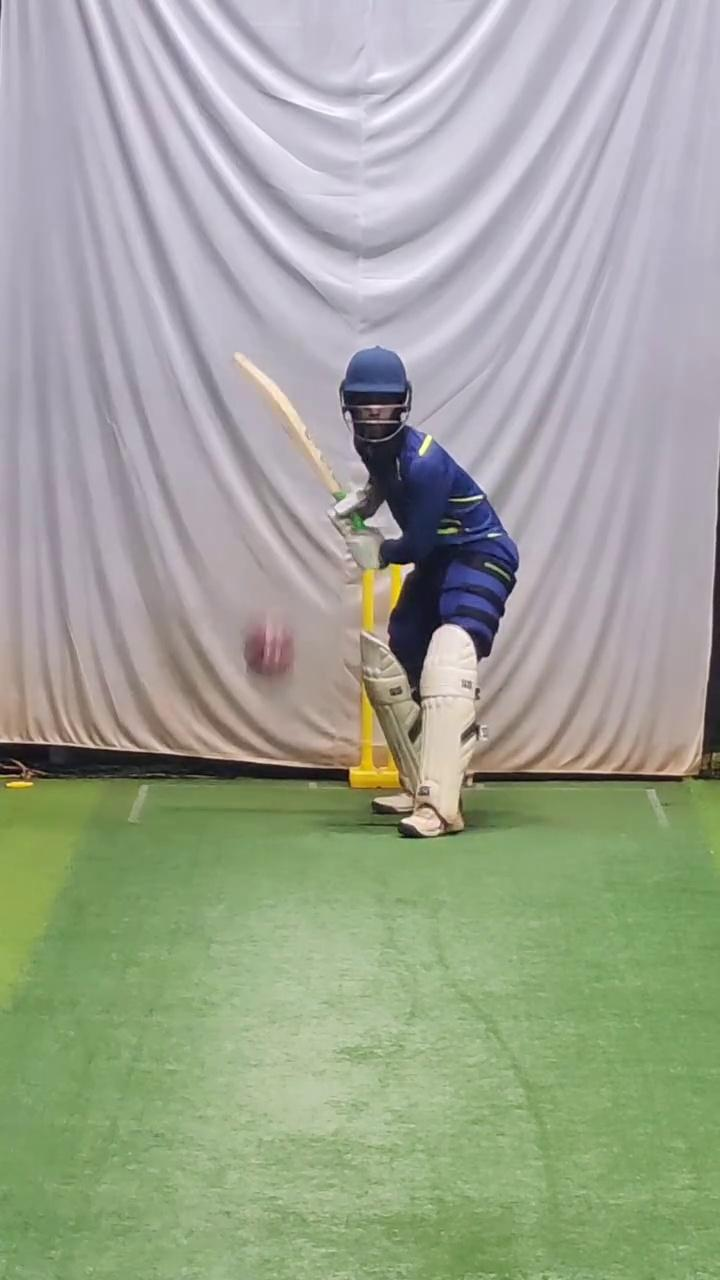bat: (226, 340, 351, 499)
